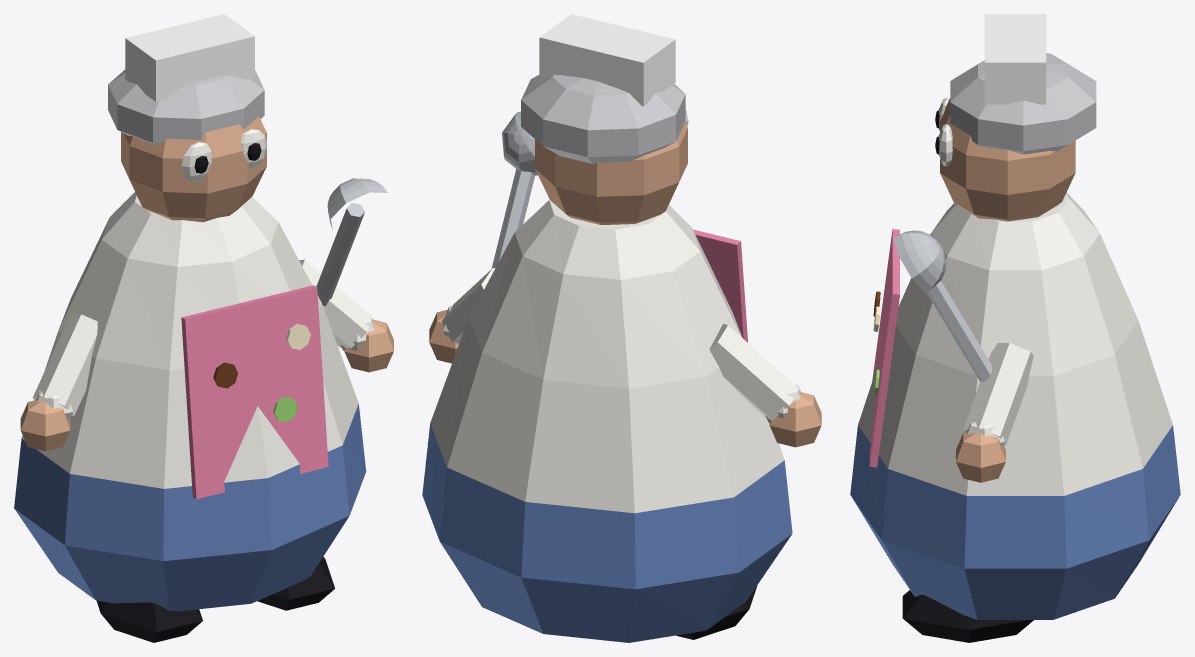
Rendered from npc_dona_nieve.glb.
3 views of the same model, side by side, from view 1: azimuth 30°, elevation 25°; view 2: azimuth 150°, elevation 25°; view 3: azimuth 270°, elevation 25° (orthographic). The views are drawn at different scales.
Parts seen in each view (by area): view 1: body_nieve_blouse, body_nieve_skirt, apron_nieve_apron, head_skin_nieve, hair_nieve_hair, hat_nieve_hat, arms_nieve_blouse, legs_black, arms_skin_nieve, scoop_scoop_steel, face_white; view 2: body_nieve_blouse, body_nieve_skirt, hair_nieve_hair, head_skin_nieve, hat_nieve_hat, arms_nieve_blouse, scoop_scoop_steel, arms_skin_nieve, apron_nieve_apron, legs_black; view 3: body_nieve_blouse, body_nieve_skirt, hair_nieve_hair, head_skin_nieve, hat_nieve_hat, scoop_scoop_steel, arms_nieve_blouse, legs_black, apron_nieve_apron, arms_skin_nieve, face_white.
Boxes of the visible parts, x1,y1,x2,y2 form: body_nieve_blouse: [21, 192, 358, 488]; body_nieve_skirt: [14, 404, 366, 611]; apron_nieve_apron: [181, 285, 328, 499]; head_skin_nieve: [121, 116, 266, 222]; hair_nieve_hair: [108, 69, 264, 144]; hat_nieve_hat: [125, 14, 254, 101]; arms_nieve_blouse: [32, 259, 374, 420]; legs_black: [96, 557, 334, 642]; arms_skin_nieve: [20, 320, 393, 451]; scoop_scoop_steel: [316, 178, 387, 305]; face_white: [181, 129, 267, 181]; body_nieve_blouse: [430, 199, 784, 513]; body_nieve_skirt: [422, 423, 792, 642]; hair_nieve_hair: [521, 74, 685, 163]; head_skin_nieve: [535, 122, 687, 224]; hat_nieve_hat: [539, 14, 675, 106]; arms_nieve_blouse: [442, 268, 801, 422]; scoop_scoop_steel: [491, 111, 537, 268]; arms_skin_nieve: [429, 310, 821, 447]; apron_nieve_apron: [693, 229, 747, 342]; legs_black: [676, 585, 757, 639]; body_nieve_blouse: [858, 192, 1172, 495]; body_nieve_skirt: [850, 425, 1180, 619]; hair_nieve_hair: [950, 53, 1096, 154]; head_skin_nieve: [940, 98, 1075, 221]; hat_nieve_hat: [984, 14, 1046, 104]; scoop_scoop_steel: [893, 230, 992, 382]; arms_nieve_blouse: [963, 343, 1033, 446]; legs_black: [902, 590, 1033, 642]; apron_nieve_apron: [869, 229, 899, 467]; arms_skin_nieve: [956, 432, 1005, 482]; face_white: [938, 98, 952, 166].
Bounding box in the file's own units: 1.13 × 1.62 × 0.86.
